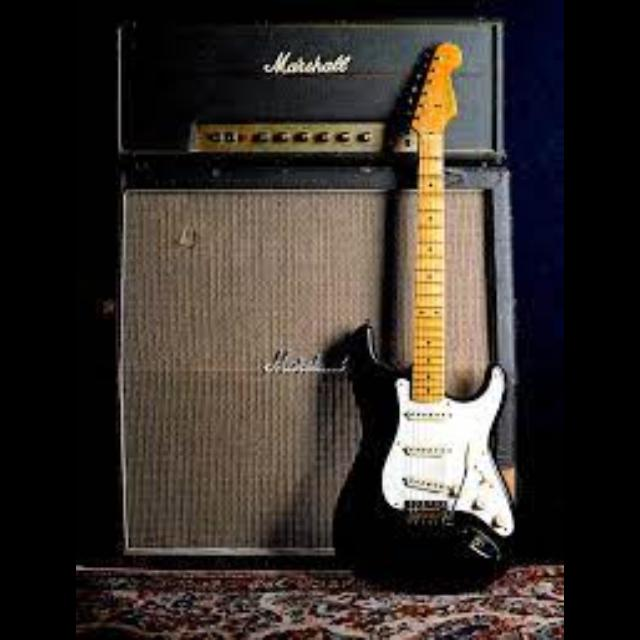Electric-Guitar: (336, 43, 520, 593)
